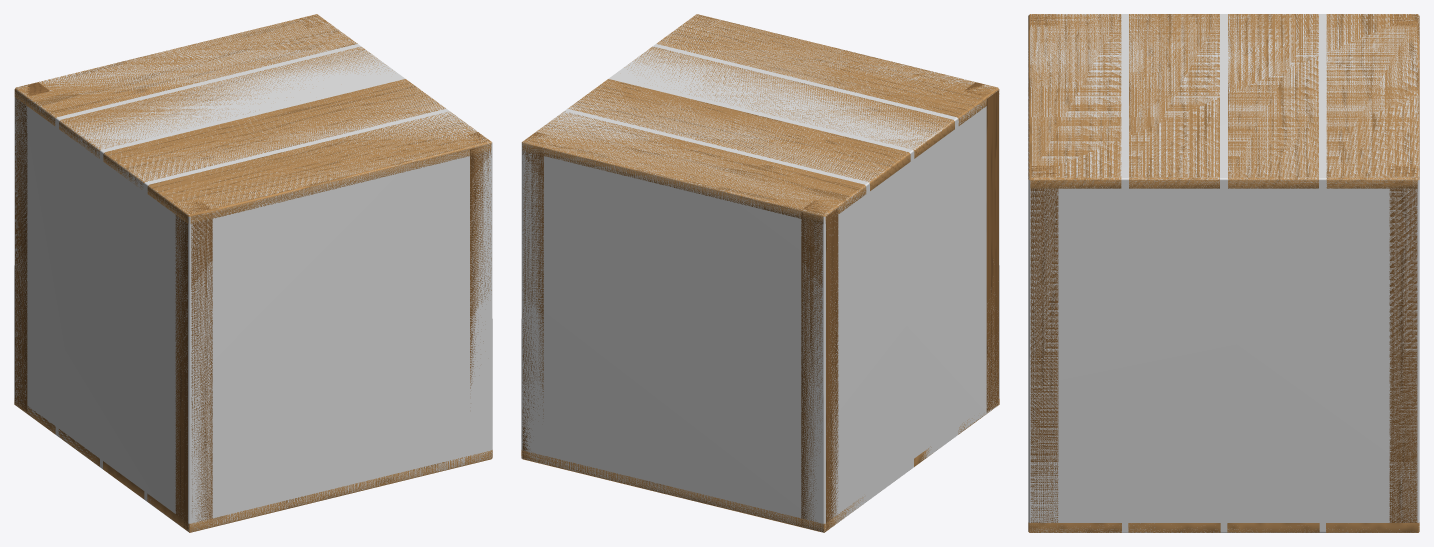
File: SM_CaixaMadeira.glb
3 views of the same model, side by side, from view 1: azimuth 30°, elevation 25°; view 2: azimuth 150°, elevation 25°; view 3: azimuth 270°, elevation 25° (orthographic). The views are drawn at different scales.
Visible parts, largest first — view 1: SM_CaixaMadeira_col, SM_CaixaMadeira_LOD0; view 2: SM_CaixaMadeira_col, SM_CaixaMadeira_LOD0; view 3: SM_CaixaMadeira_col, SM_CaixaMadeira_LOD0.
Part boxes in pixels (x1=…): SM_CaixaMadeira_col: x1=14, y1=15, x2=492, y2=531; SM_CaixaMadeira_LOD0: x1=14, y1=14, x2=492, y2=532; SM_CaixaMadeira_col: x1=521, y1=14, x2=999, y2=532; SM_CaixaMadeira_LOD0: x1=521, y1=14, x2=999, y2=532; SM_CaixaMadeira_col: x1=1028, y1=14, x2=1419, y2=532; SM_CaixaMadeira_LOD0: x1=1028, y1=14, x2=1419, y2=532.
Size of what is drawn, in the model's own units: 0.6 by 0.6 by 0.6.
Materials: 2 (2 with a texture image).
